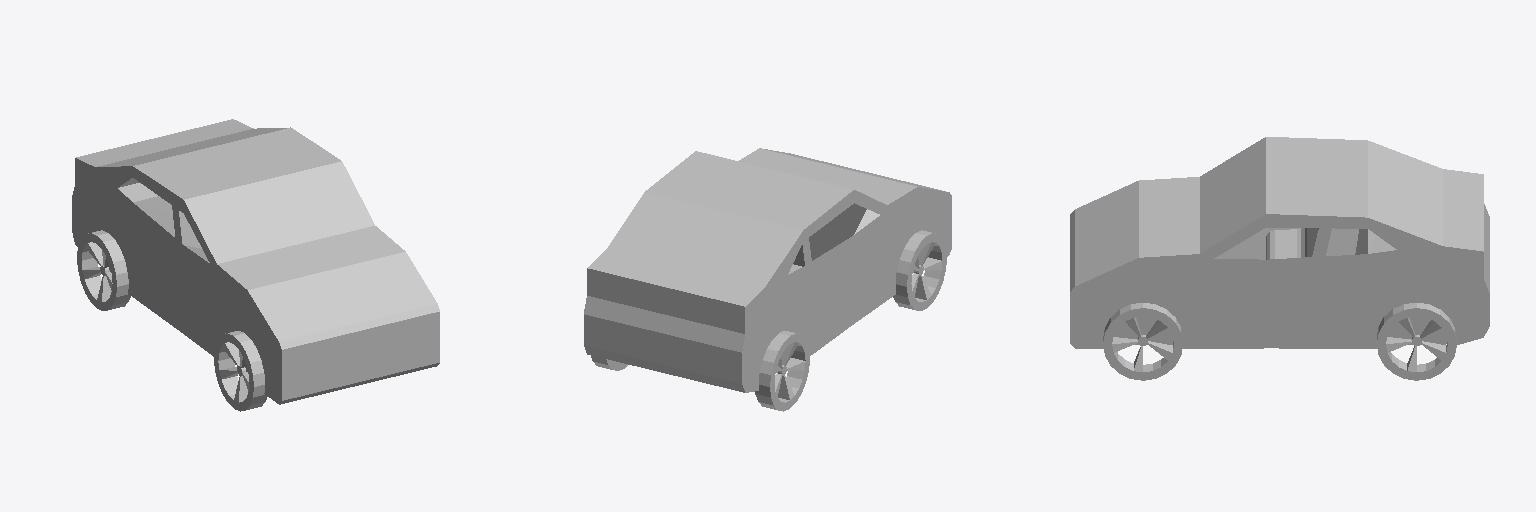
File: smite.obj
3 views of the same model, side by side, from view 1: azimuth 30°, elevation 25°; view 2: azimuth 150°, elevation 25°; view 3: azimuth 270°, elevation 25° (orthographic).
Visible parts, largest first — view 1: pTorus3 Mesh; view 2: pTorus3 Mesh; view 3: pTorus3 Mesh.
Boxes of the visible parts, x1,y1,x2,y2 form: pTorus3 Mesh: [72, 119, 439, 411]; pTorus3 Mesh: [584, 148, 951, 411]; pTorus3 Mesh: [1070, 137, 1489, 380].
Bounding box in the file's own units: 3.11 × 2.65 × 6.26.